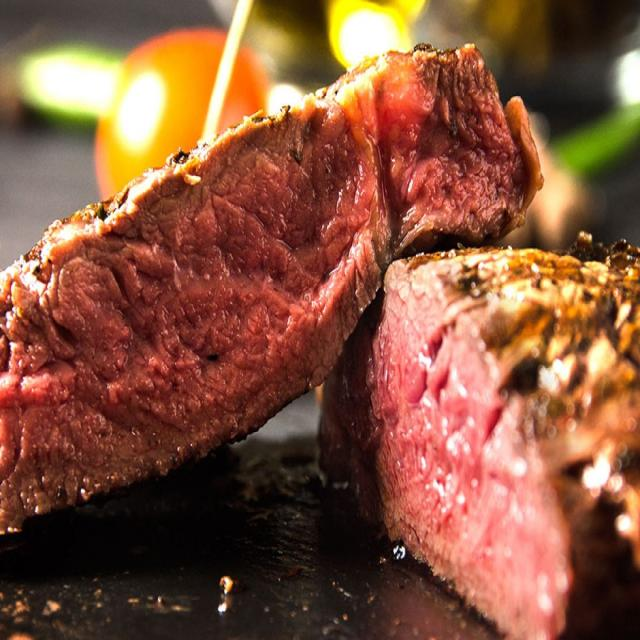carne de res: (3, 48, 542, 563), (314, 240, 638, 638)
